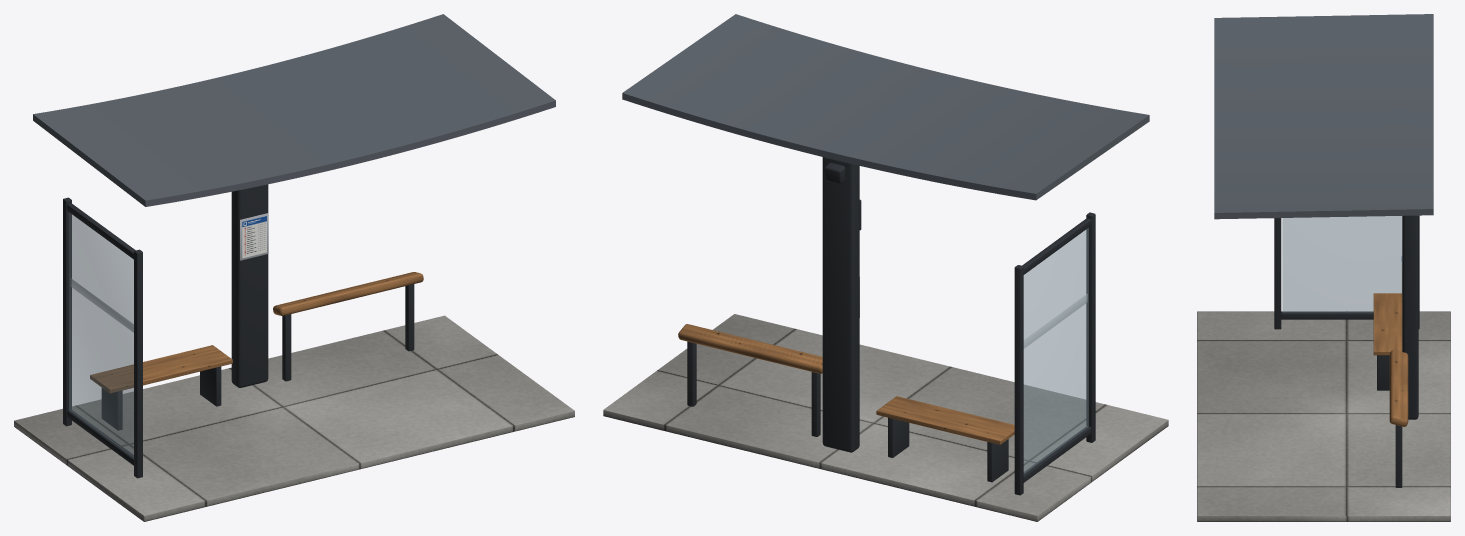
The model's file is modern-canopy-bus-stop.glb.
3 renders of one model, left to right at view 1: azimuth 30°, elevation 25°; view 2: azimuth 150°, elevation 25°; view 3: azimuth 270°, elevation 25°, orthographic. The views are drawn at different scales.
Visible parts, largest first — view 1: Modern_Canopy_Bus_Stop; view 2: Modern_Canopy_Bus_Stop; view 3: Modern_Canopy_Bus_Stop.
Boxes of the visible parts, box(x1,y1,x2,y2) form: Modern_Canopy_Bus_Stop: box(14, 14, 574, 521); Modern_Canopy_Bus_Stop: box(603, 14, 1168, 521); Modern_Canopy_Bus_Stop: box(1197, 14, 1450, 521).
Size of the model in its own units: 4.2 by 2.95 by 2.2.
Materials: 10 (4 with a texture image).
